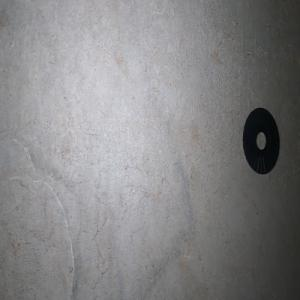Washer: (242, 107, 279, 174)
